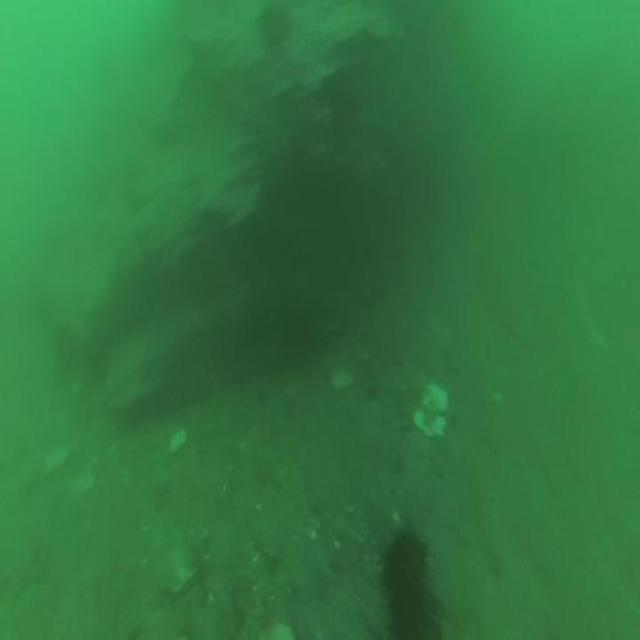echinus: (378, 510, 439, 640), (259, 0, 290, 58)
